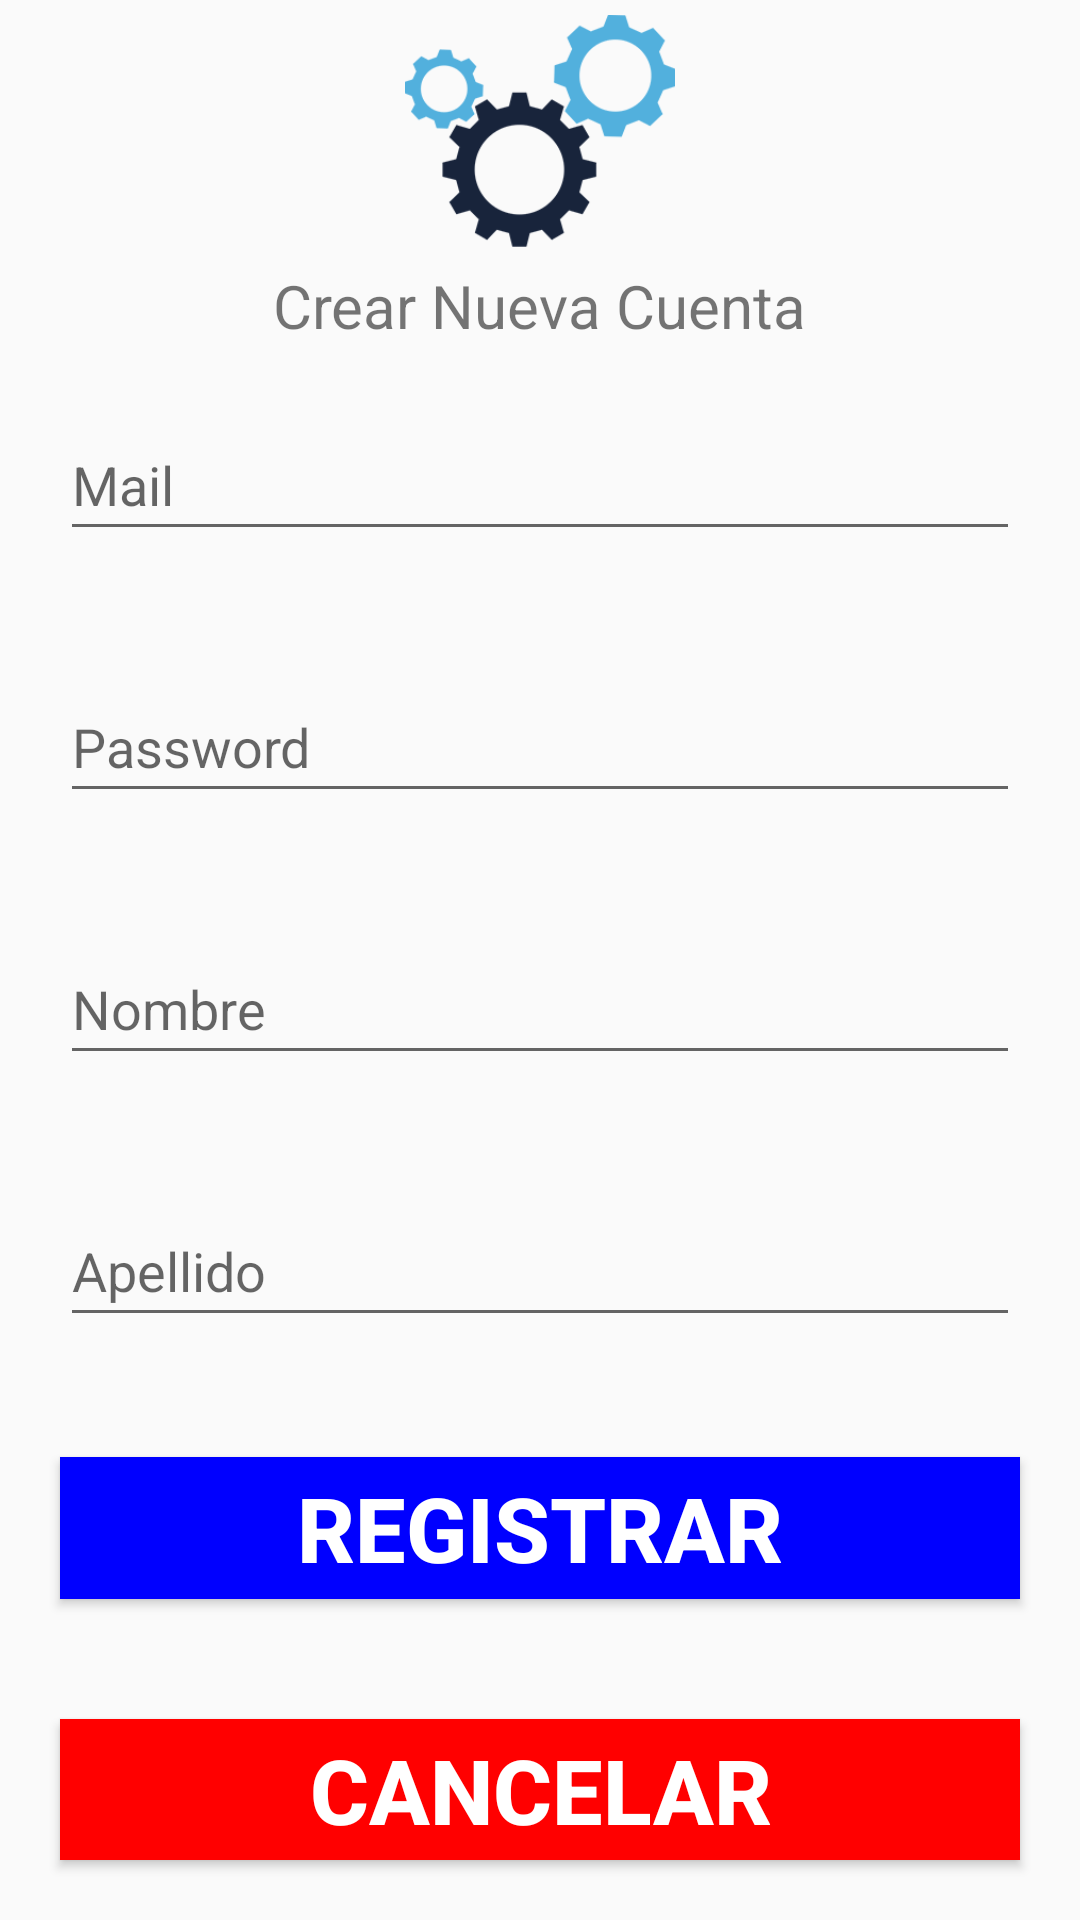

Screen size 1080×1920. Icon name, then its center in pixels as (x,y):
cargando: (540,131)
